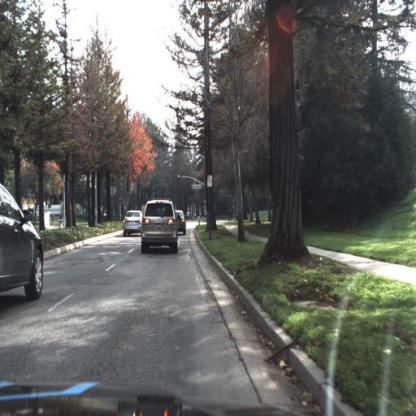car: (1, 179, 44, 306), (138, 196, 183, 259), (123, 211, 145, 236), (178, 209, 188, 235)
pedestrian: (229, 209, 234, 224)
trafficLight-Red: (179, 173, 182, 186)
